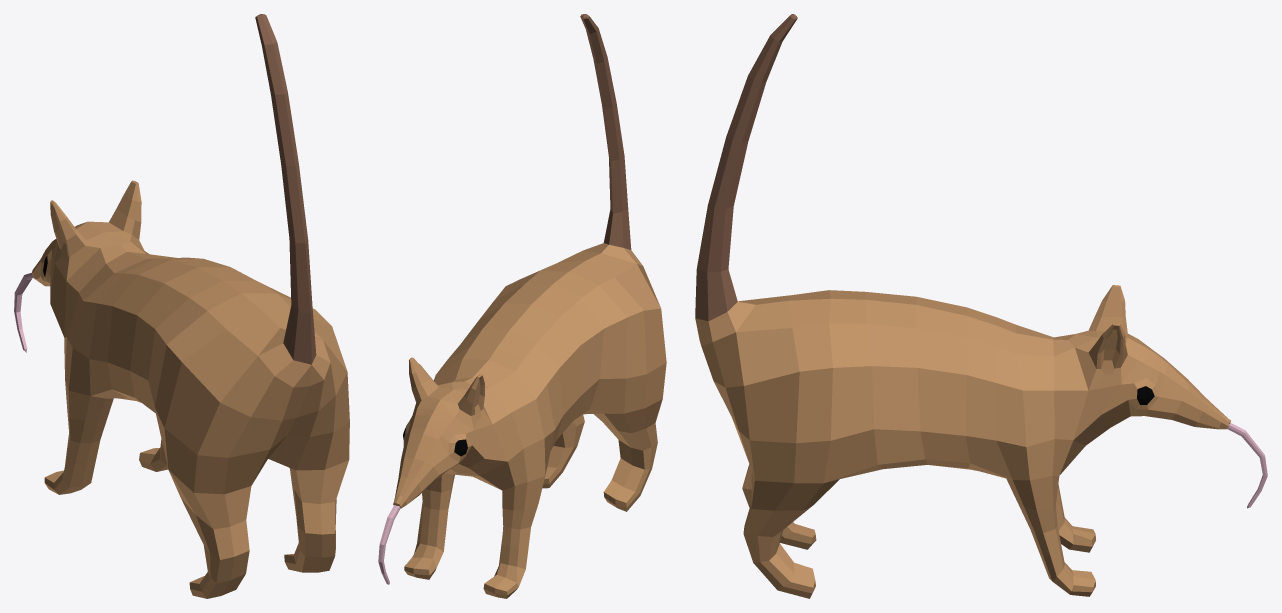
File: prop_au_numbat.glb
3 views of the same model, side by side, from view 1: azimuth 30°, elevation 25°; view 2: azimuth 150°, elevation 25°; view 3: azimuth 270°, elevation 25° (orthographic). The views are drawn at different scales.
Visible parts, largest first — view 1: Plane, Plane.001; view 2: Plane, Plane.001; view 3: Plane.
Boxes of the visible parts, x1,y1,x2,y2 form: Plane: [31, 14, 349, 598]; Plane.001: [14, 273, 33, 352]; Plane: [393, 14, 666, 598]; Plane.001: [378, 505, 400, 584]; Plane: [695, 14, 1230, 598].
Size of the model in its own units: 3.9 by 11.9 by 11.12.
